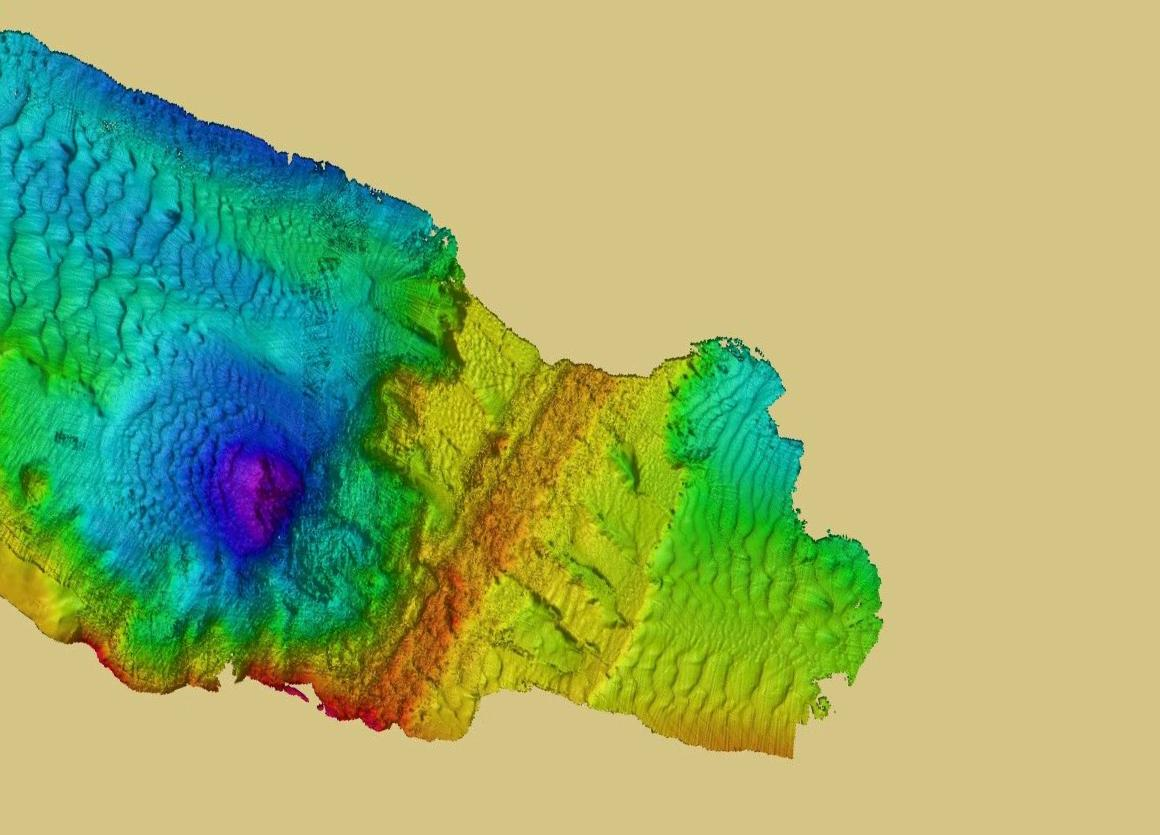Dune: (12, 128, 213, 344), (93, 362, 229, 521), (654, 533, 840, 622)
Scarp: (5, 595, 360, 742)
Scour pit: (200, 423, 307, 573)
Submerged dike: (460, 324, 632, 555), (364, 545, 525, 736)
